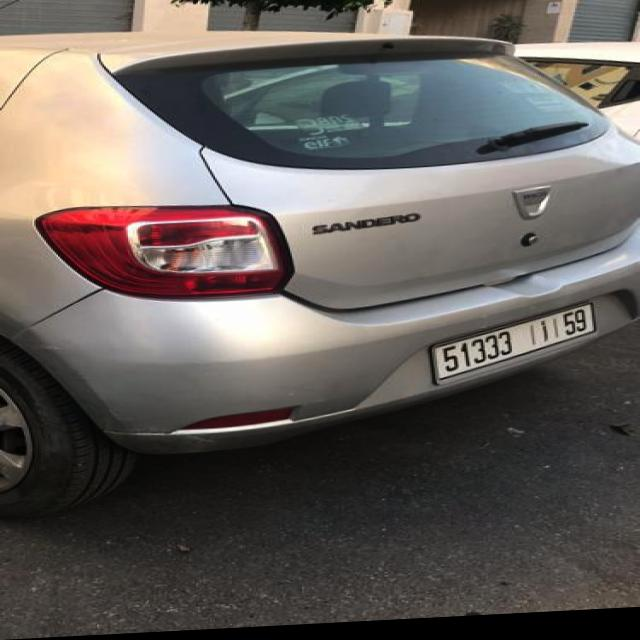License-Plate: (434, 310, 595, 385)
